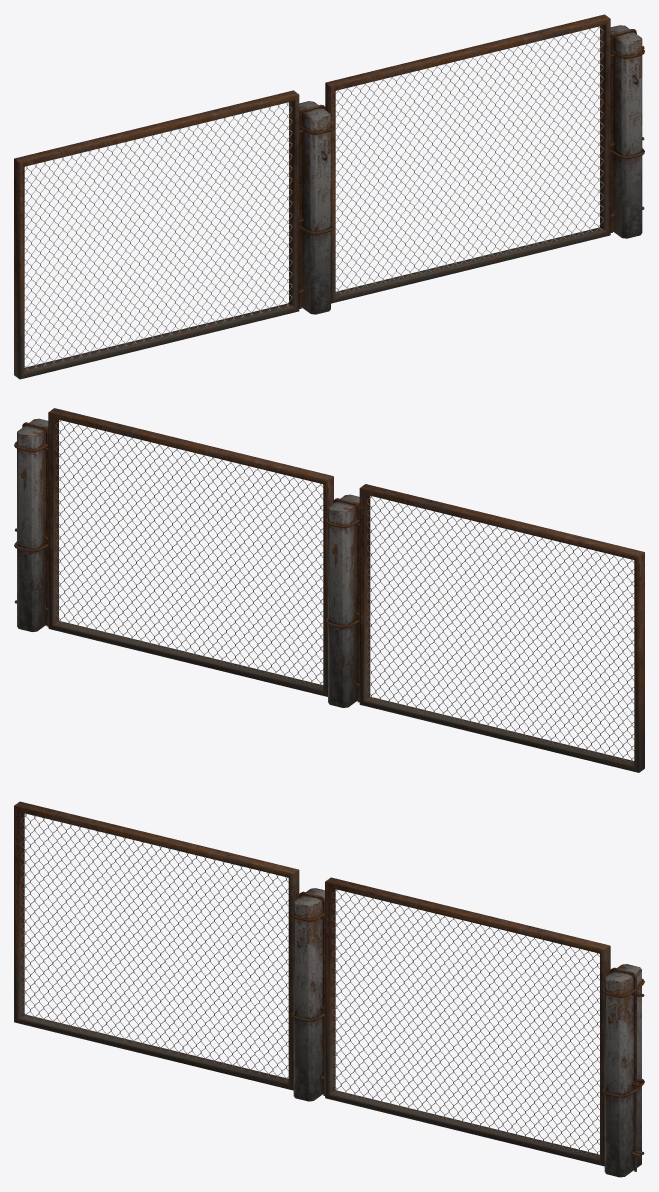
The model's file is chainlink.glb.
3 views of the same model, one above another, from view 1: azimuth 30°, elevation 25°; view 2: azimuth 150°, elevation 25°; view 3: azimuth 330°, elevation 25° (orthographic).
Visible parts, largest first — view 1: Object_5, Object_4; view 2: Object_5, Object_4; view 3: Object_5, Object_4.
Part boxes in pixels (x1,y1,x2,y2): Object_5: (14,14,644,379); Object_4: (24,26,603,370); Object_5: (14,408,644,772); Object_4: (55,420,634,763); Object_5: (14,801,644,1177); Object_4: (21,813,599,1156).
Bounding box in the file's own units: 6.03 × 2 × 0.4754.
2 materials, 2 textured.
